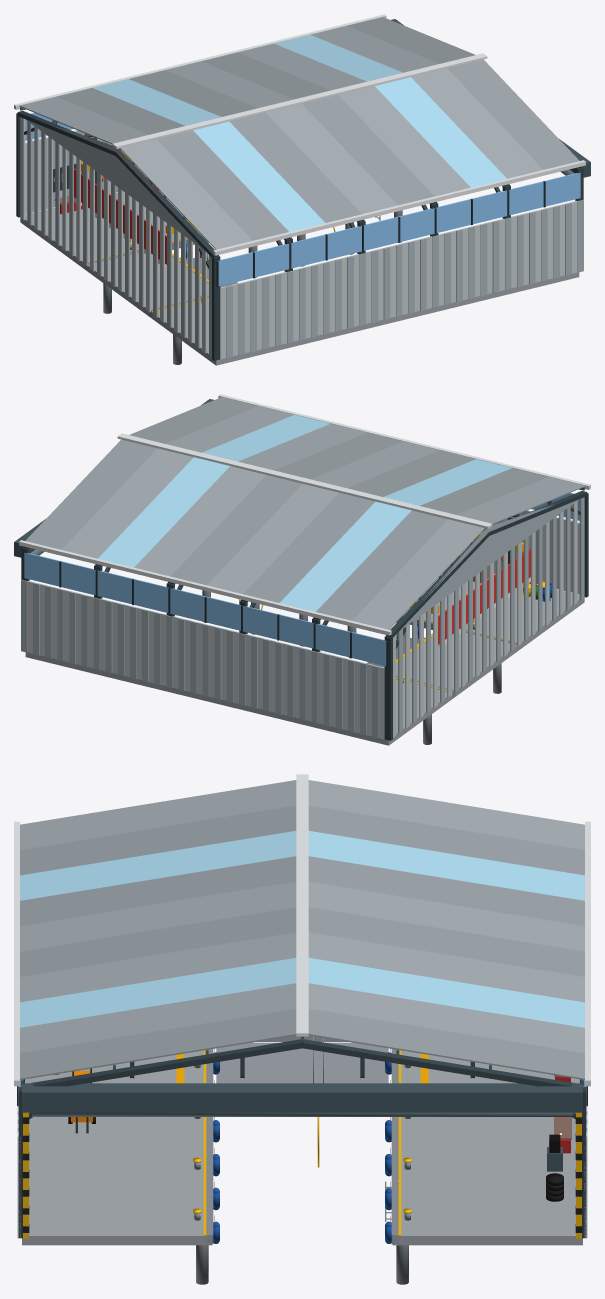
File: Hangar.glb
3 renders of one model, top to bottom at view 1: azimuth 30°, elevation 25°; view 2: azimuth 150°, elevation 25°; view 3: azimuth 270°, elevation 25°, orthographic. The views are drawn at different scales.
Parts seen in each view (by area): view 1: Hangar; view 2: Hangar; view 3: Hangar.
Part boxes in pixels (<box>): Hangar: <box>14,14,590,365</box>; Hangar: <box>14,394,590,745</box>; Hangar: <box>14,774,590,1284</box>.
Bounding box in the file's own units: 31.25 × 15.71 × 28.8.
